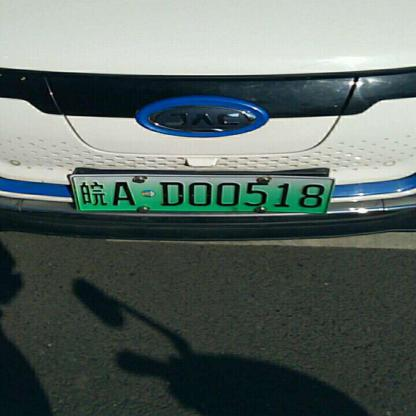lp: (72, 178, 334, 211)
